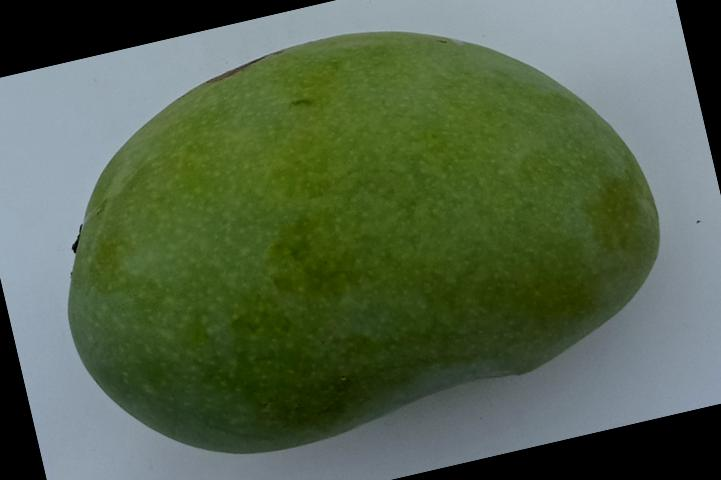Mango Unripe: (1, 0, 721, 480)
